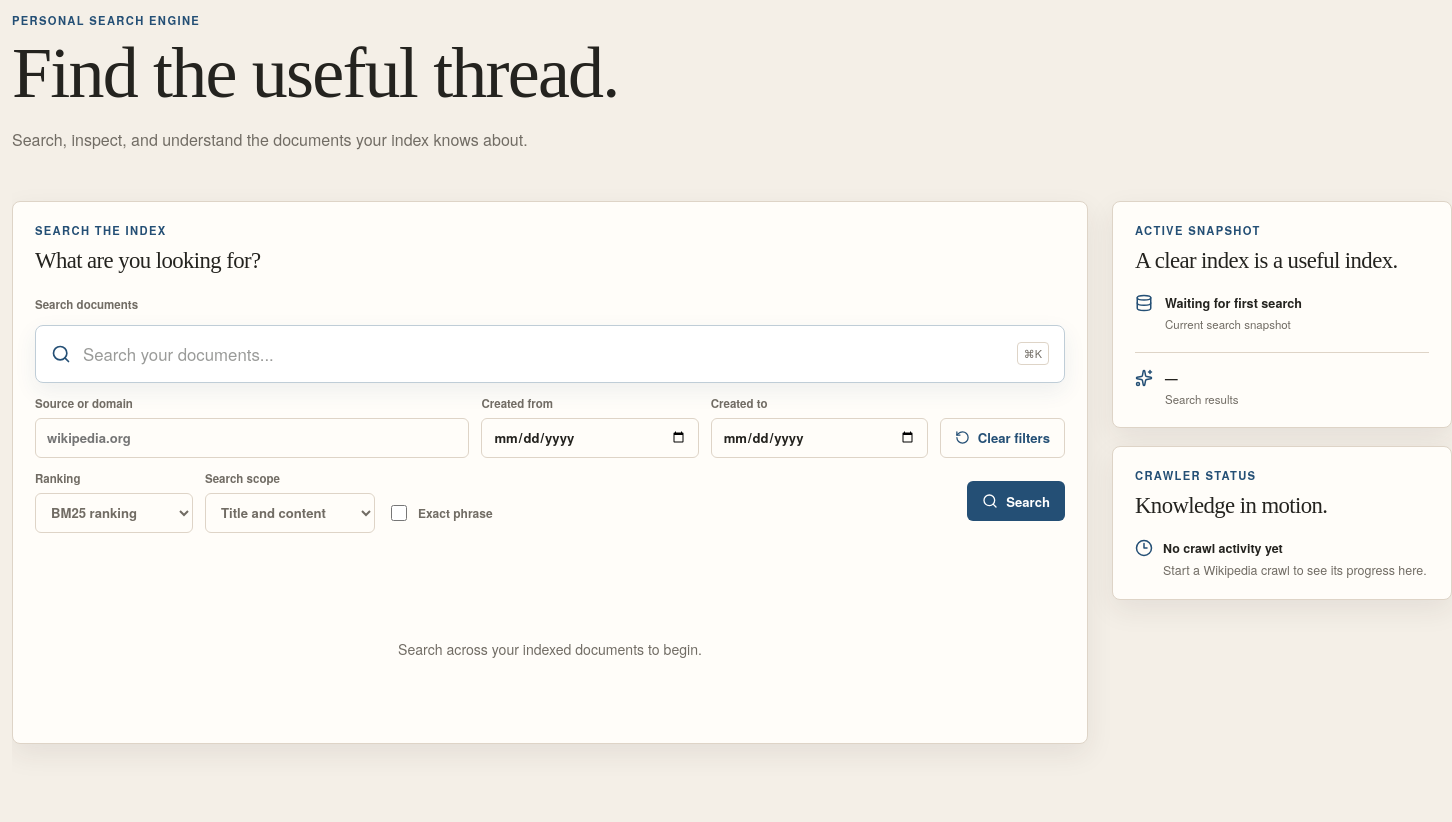
Test: WorkspacePage › does not show score explanation for TF-IDF results
Type "ranking" into the search field labelled "Search documents" at (544, 354), box [81, 341, 1007, 367]
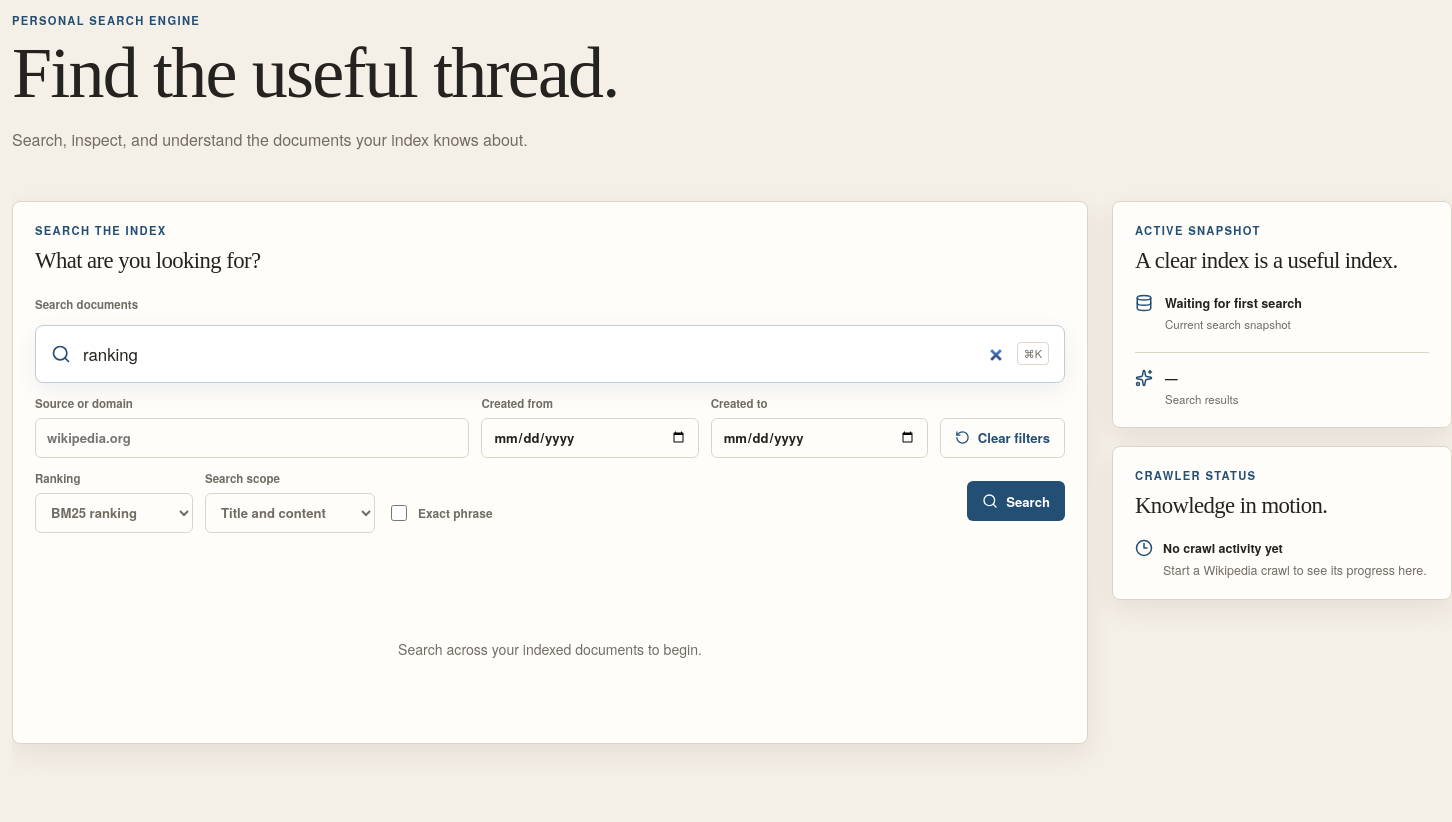
Select "TF-IDF ranking" in the dropdown labelled "Ranking" at (114, 513), box [35, 493, 193, 533]
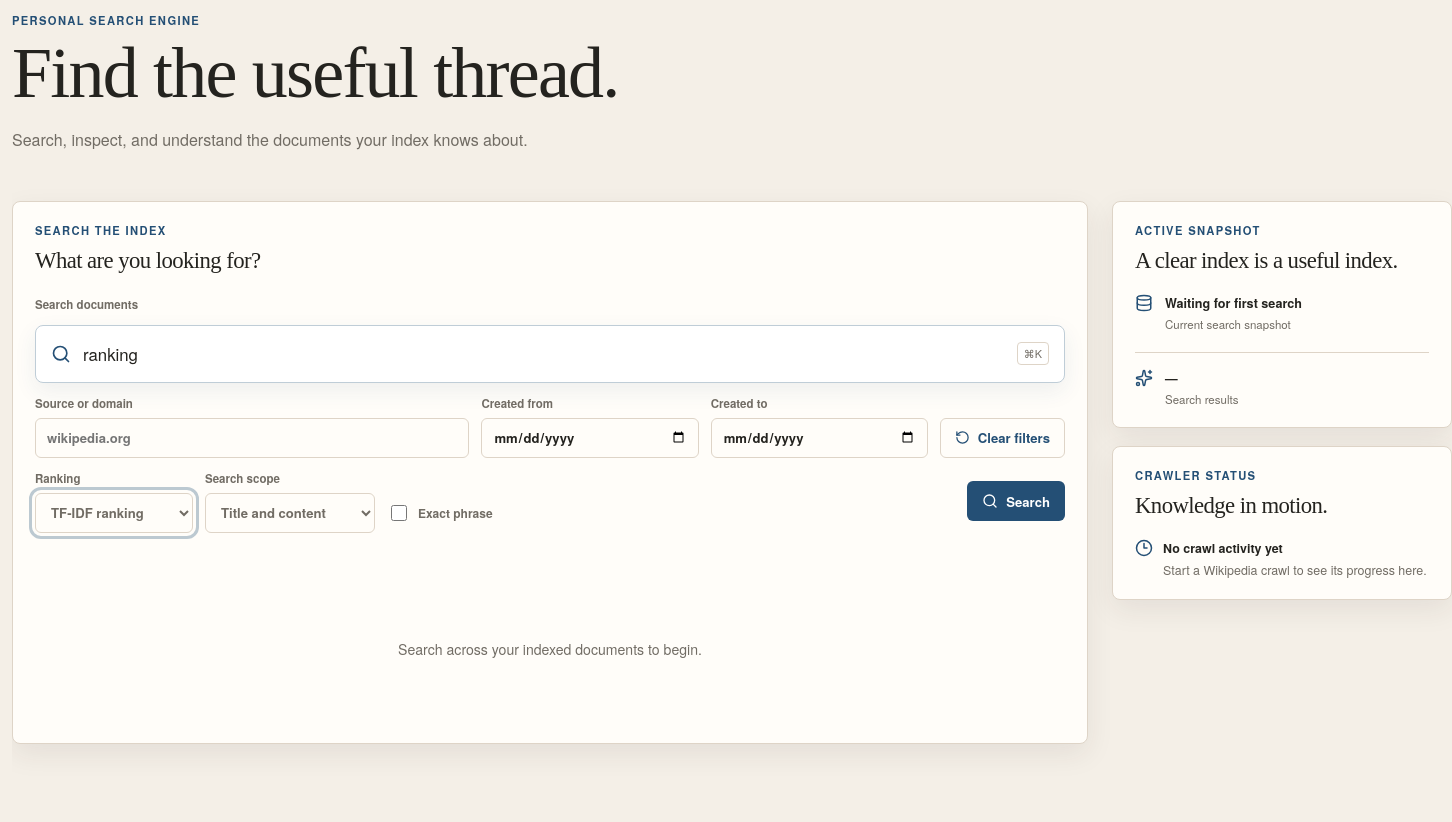
Click the button "Search" at (1016, 501), box [967, 481, 1065, 521]
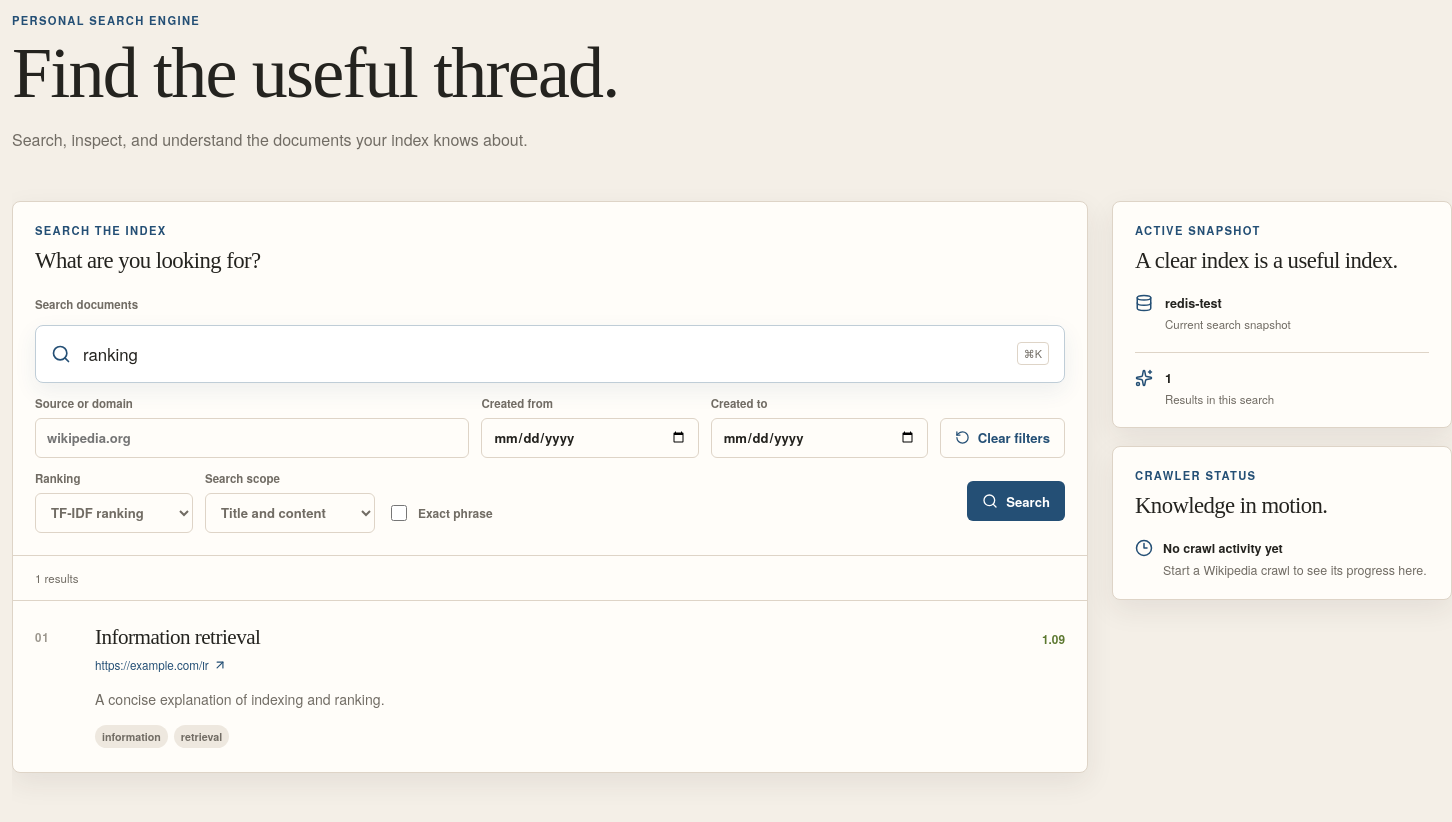
Expected: the heading "Information retrieval" is shown, [95, 625, 260, 650]
